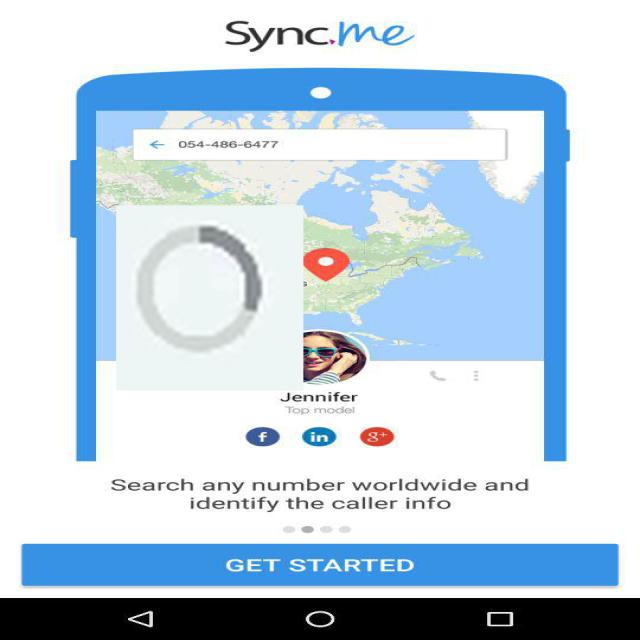misdirection: (116, 205, 304, 391)
